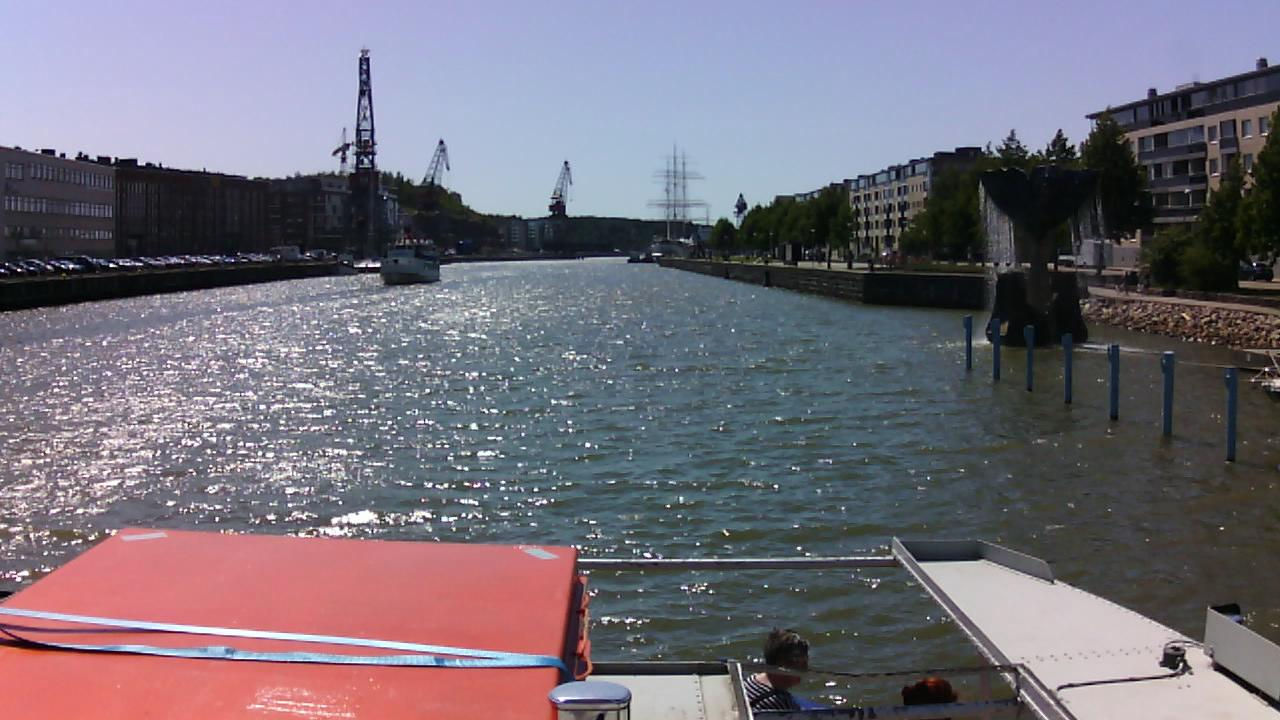Ship: (648, 143, 711, 256), (385, 243, 439, 283)
